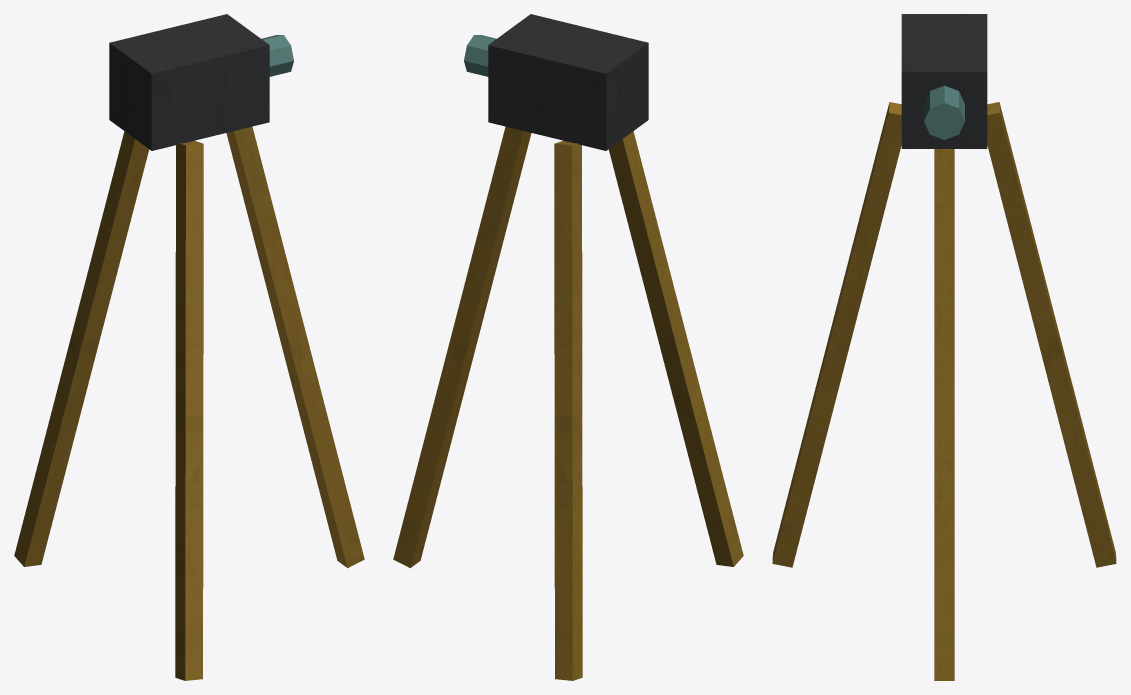
The model's file is survey_tripod_01.glb.
3 views of the same model, side by side, from view 1: azimuth 30°, elevation 25°; view 2: azimuth 150°, elevation 25°; view 3: azimuth 270°, elevation 25° (orthographic).
Visible parts, largest first — view 1: survey_tripod_01; view 2: survey_tripod_01; view 3: survey_tripod_01.
Boxes of the visible parts, x1,y1,x2,y2 form: survey_tripod_01: (14,14,364,680); survey_tripod_01: (393,14,743,680); survey_tripod_01: (772,14,1116,680).
Bounding box in the file's own units: 0.8815 × 1.81 × 1.01.
Materials: 3 (3 with a texture image).
